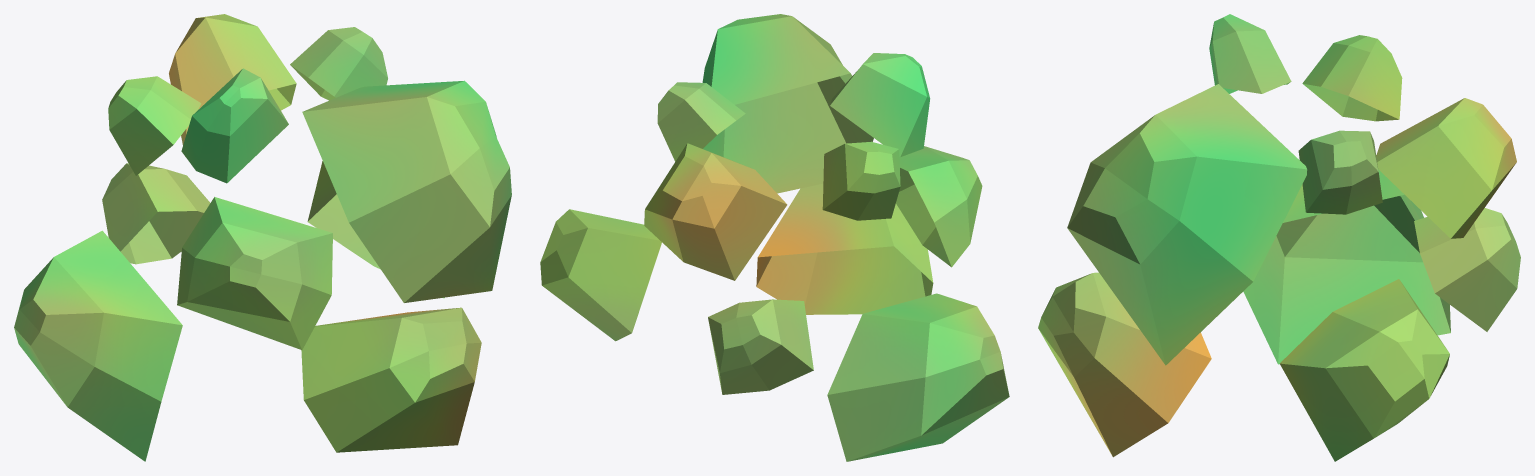
File: crystal_09.glb
3 views of the same model, side by side, from view 1: azimuth 30°, elevation 25°; view 2: azimuth 150°, elevation 25°; view 3: azimuth 270°, elevation 25° (orthographic). The views are drawn at different scales.
Visible parts, largest first — view 1: crystal_09; view 2: crystal_09; view 3: crystal_09.
Boxes of the visible parts, x1,y1,x2,y2 form: crystal_09: [14, 14, 511, 461]; crystal_09: [540, 14, 1009, 461]; crystal_09: [1038, 14, 1520, 461].
Bounding box in the file's own units: 1.43 × 1.13 × 1.29.
Materials: 1 (1 with a texture image).
